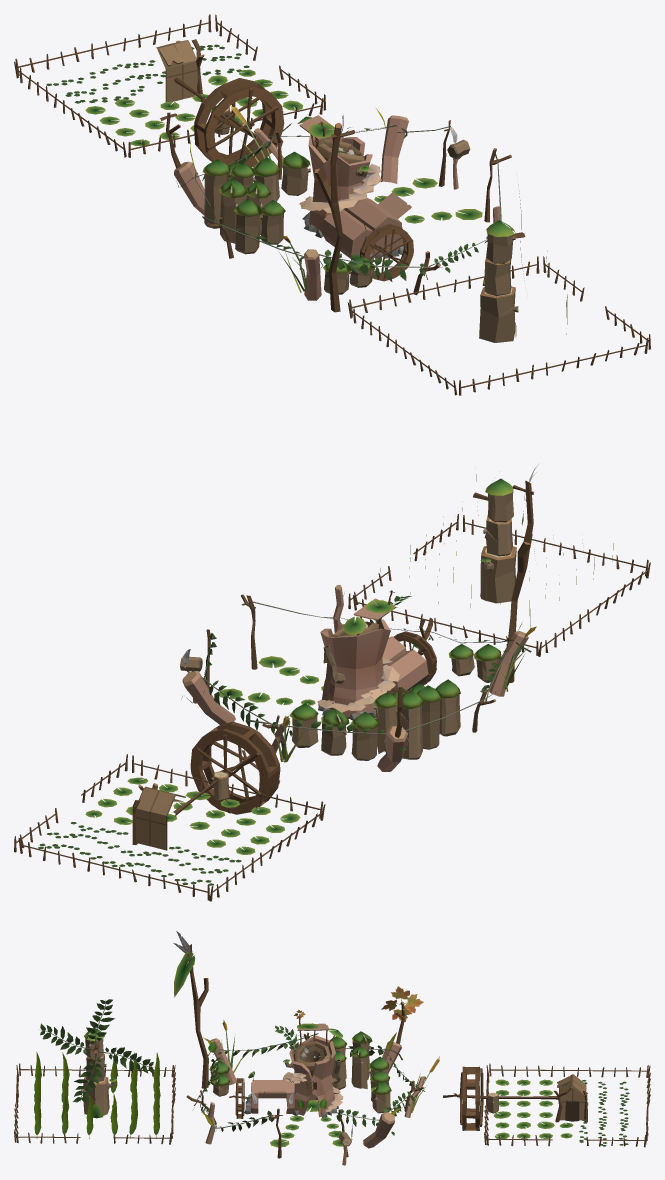
The picture shows the model from 3 angles, top to bottom: view 1: azimuth 30°, elevation 25°; view 2: azimuth 150°, elevation 25°; view 3: azimuth 270°, elevation 25°; orthographic projection. The views are drawn at different scales.
Visible parts, largest first — view 1: nestStage_17, watermill.002, watermillHouse.002; view 2: nestStage_17, watermill.002, watermillHouse.002; view 3: nestStage_17, windmill.002, watermill.002, nestStageWindmill_11, watermillHouse.002.
Boxes of the visible parts, box(x1,y1,x2,y2) form: nestStage_17: box(14, 14, 650, 395); watermill.002: box(174, 77, 284, 167); watermillHouse.002: box(360, 224, 413, 281); nestStage_17: box(14, 464, 650, 901); watermill.002: box(173, 721, 280, 816); watermillHouse.002: box(393, 631, 436, 685); nestStage_17: box(14, 931, 650, 1165); windmill.002: box(40, 999, 154, 1102); watermill.002: box(443, 1066, 557, 1130); nestStageWindmill_11: box(381, 986, 423, 1021); watermillHouse.002: box(229, 1078, 251, 1118).
Bounding box in the file's own units: 6.39 × 4.78 × 17.09.
